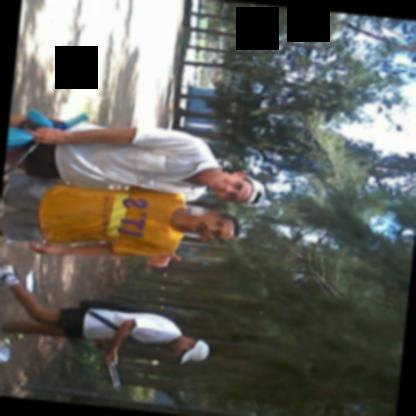backpack: (77, 300, 114, 309)
